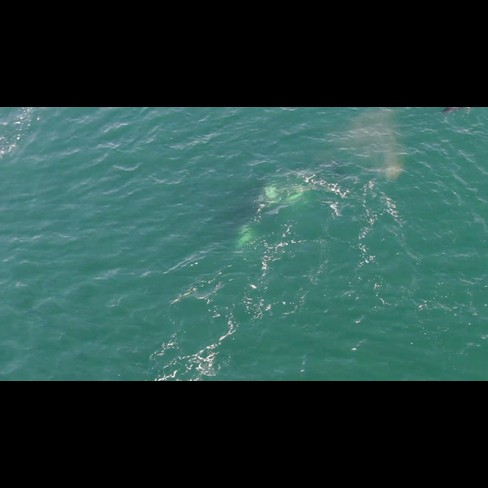orca: (218, 155, 351, 249)
